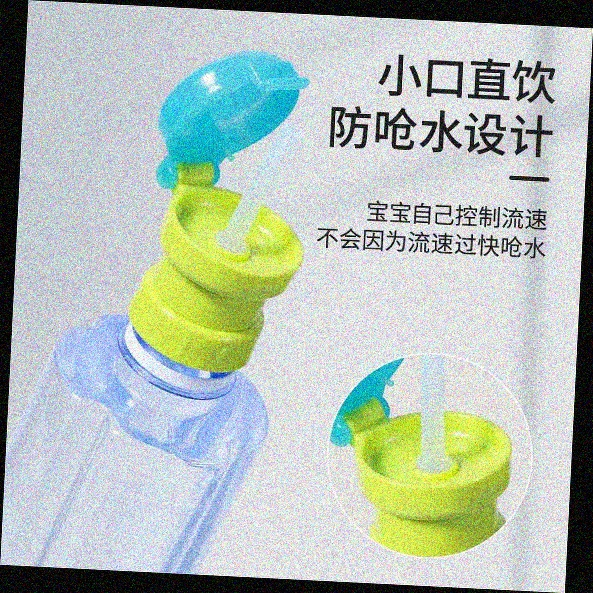bottle: (8, 271, 292, 572)
